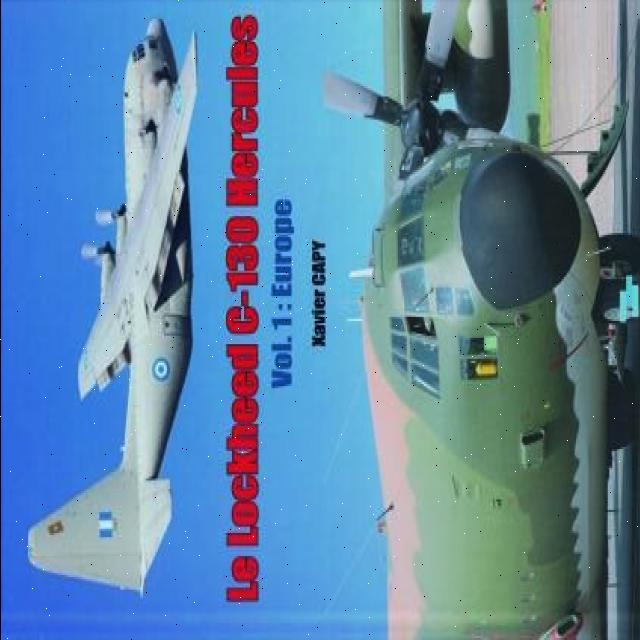C130: (317, 0, 640, 640), (16, 0, 222, 605)
